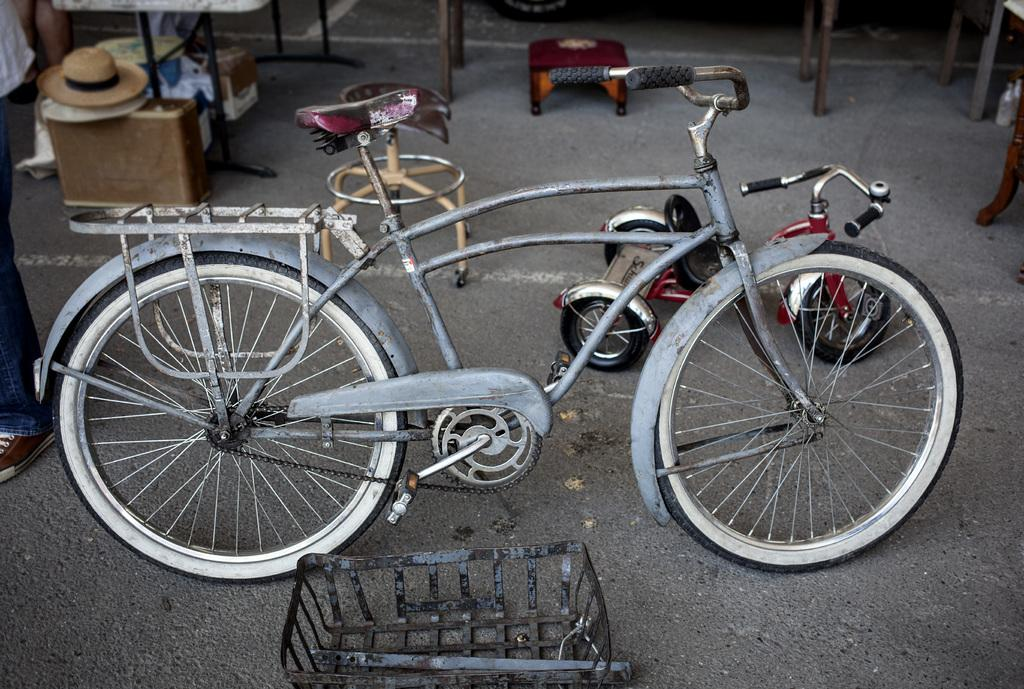Hat: (34, 43, 149, 108), (34, 97, 127, 122)
